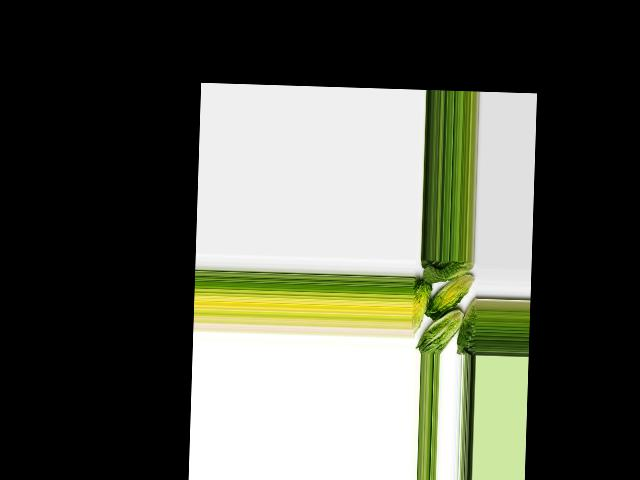lettuce: (419, 259, 472, 286)
